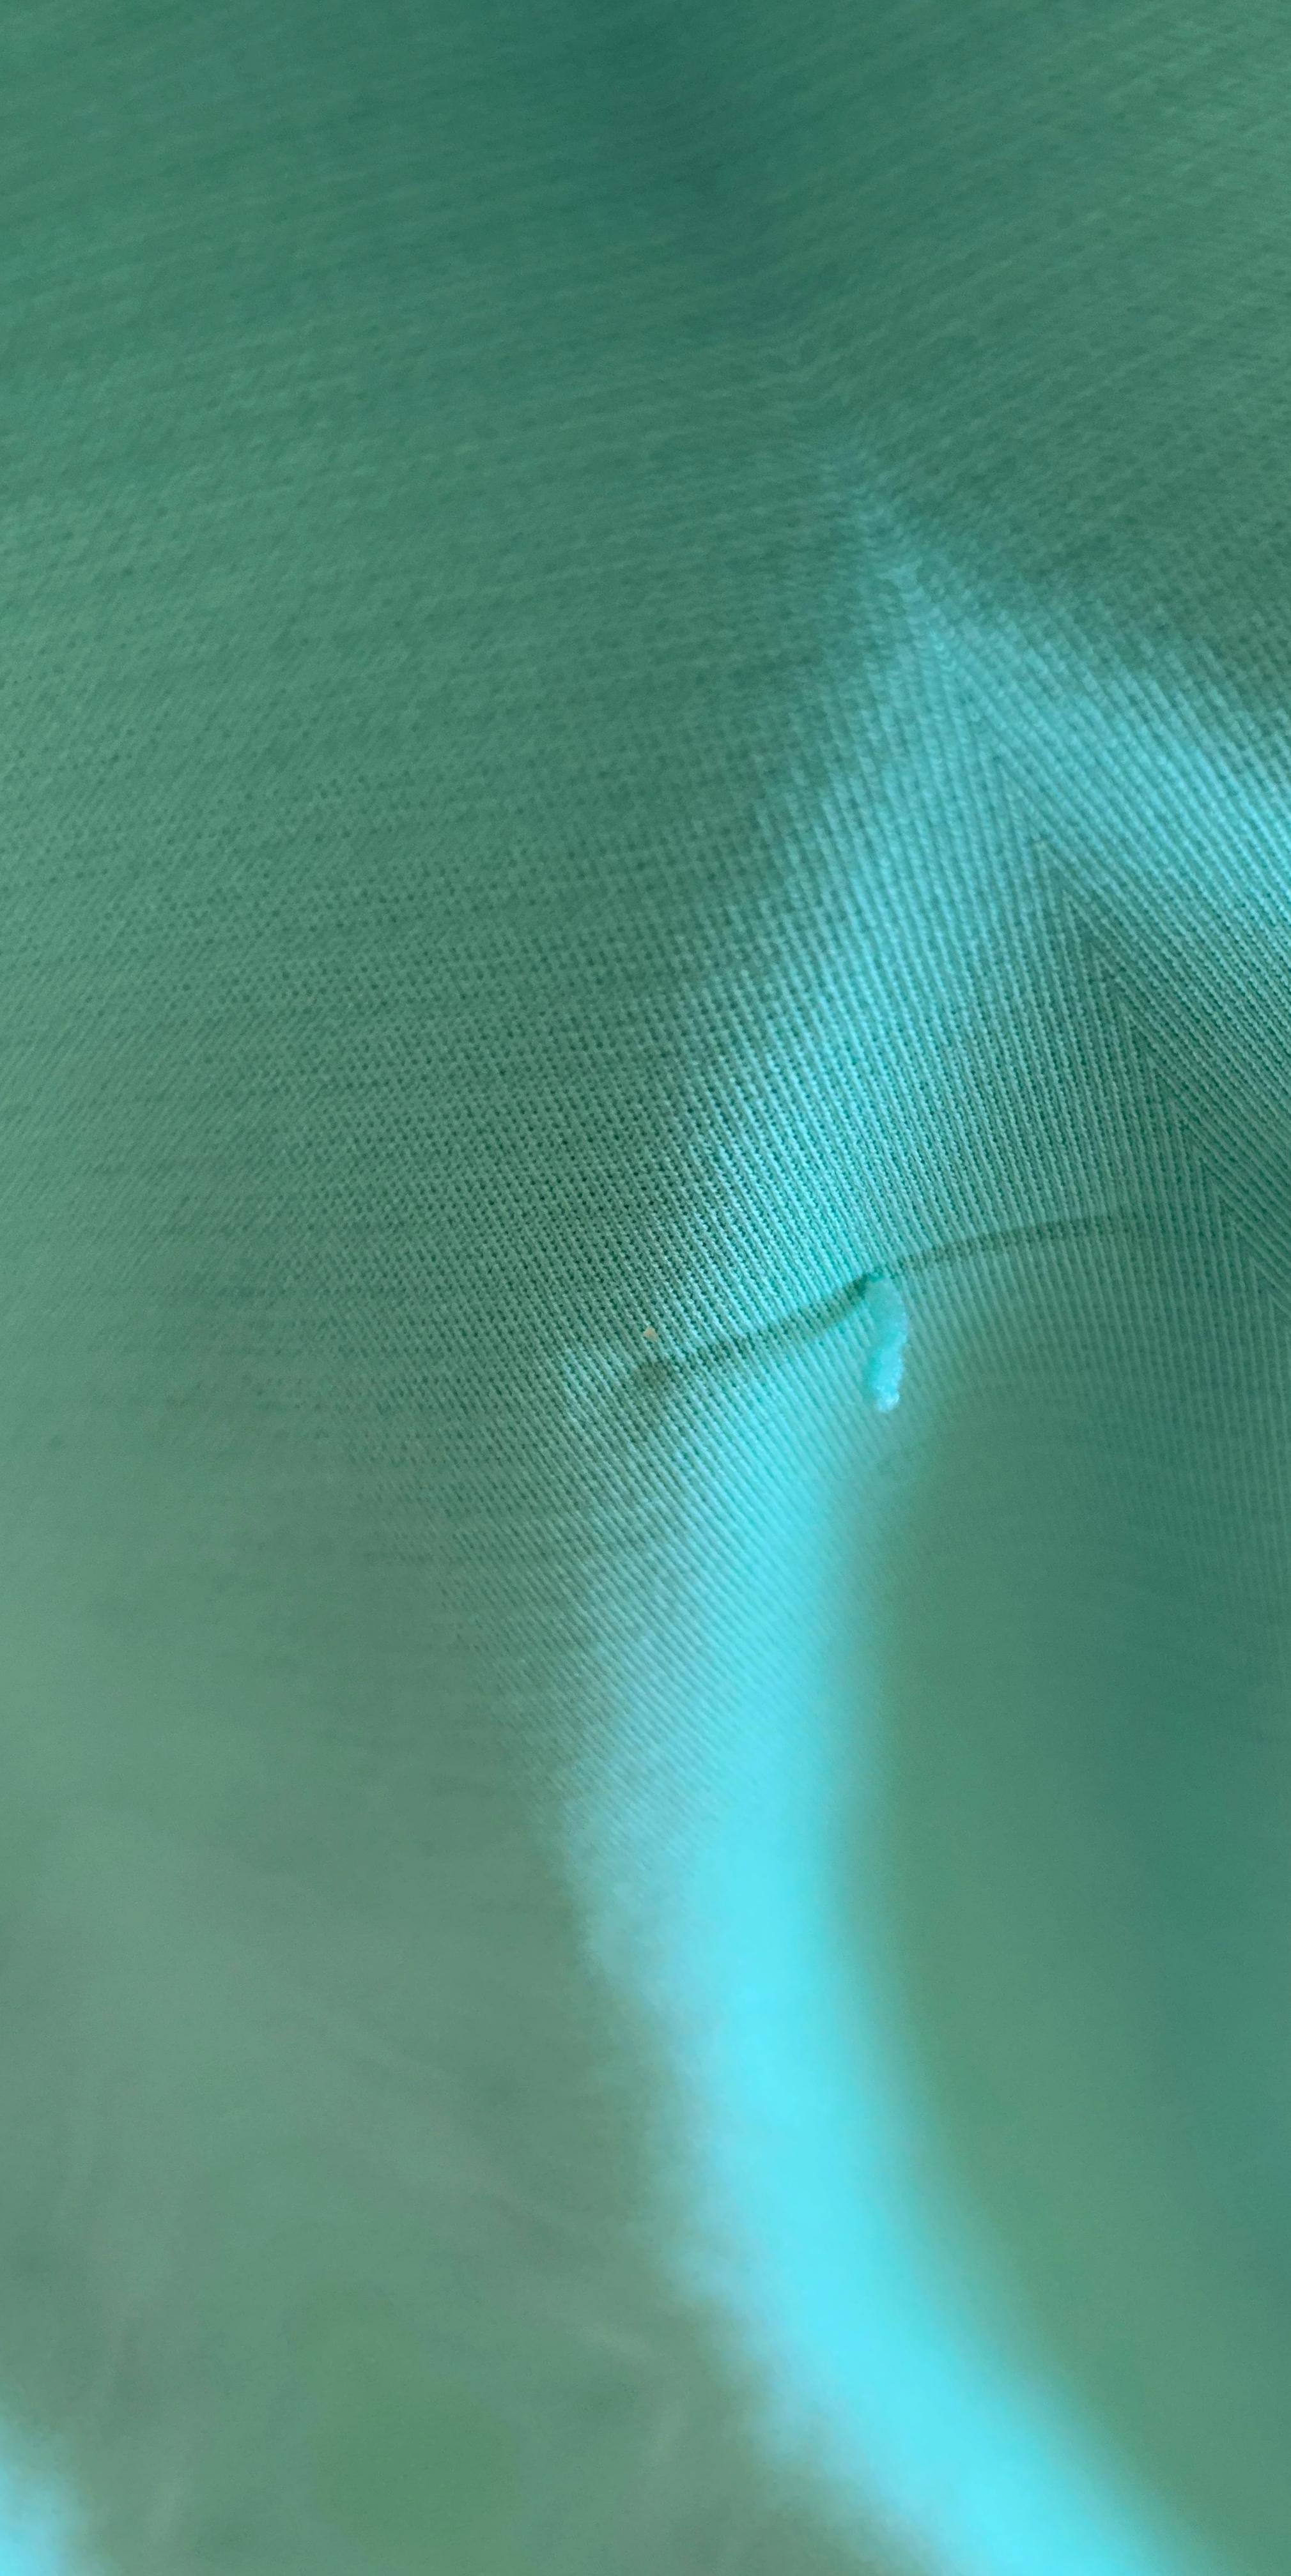snag: (799, 1197, 1000, 1491)
